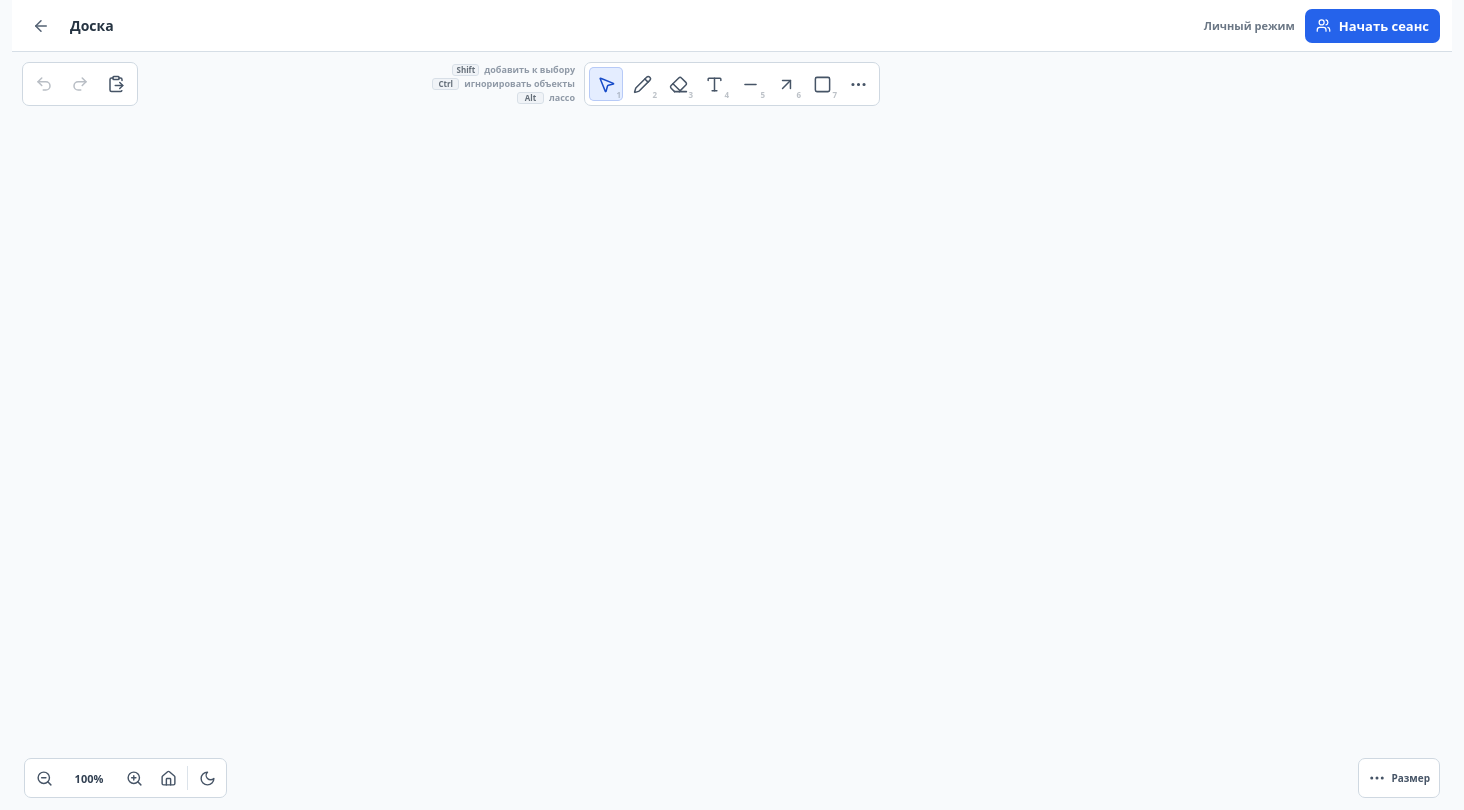
Test: SoloBoardPage session promotion › shows a server response instead of masking it as a connection error
Click the button "Начать сеанс" at (1372, 26), box [1305,8,1440,42]
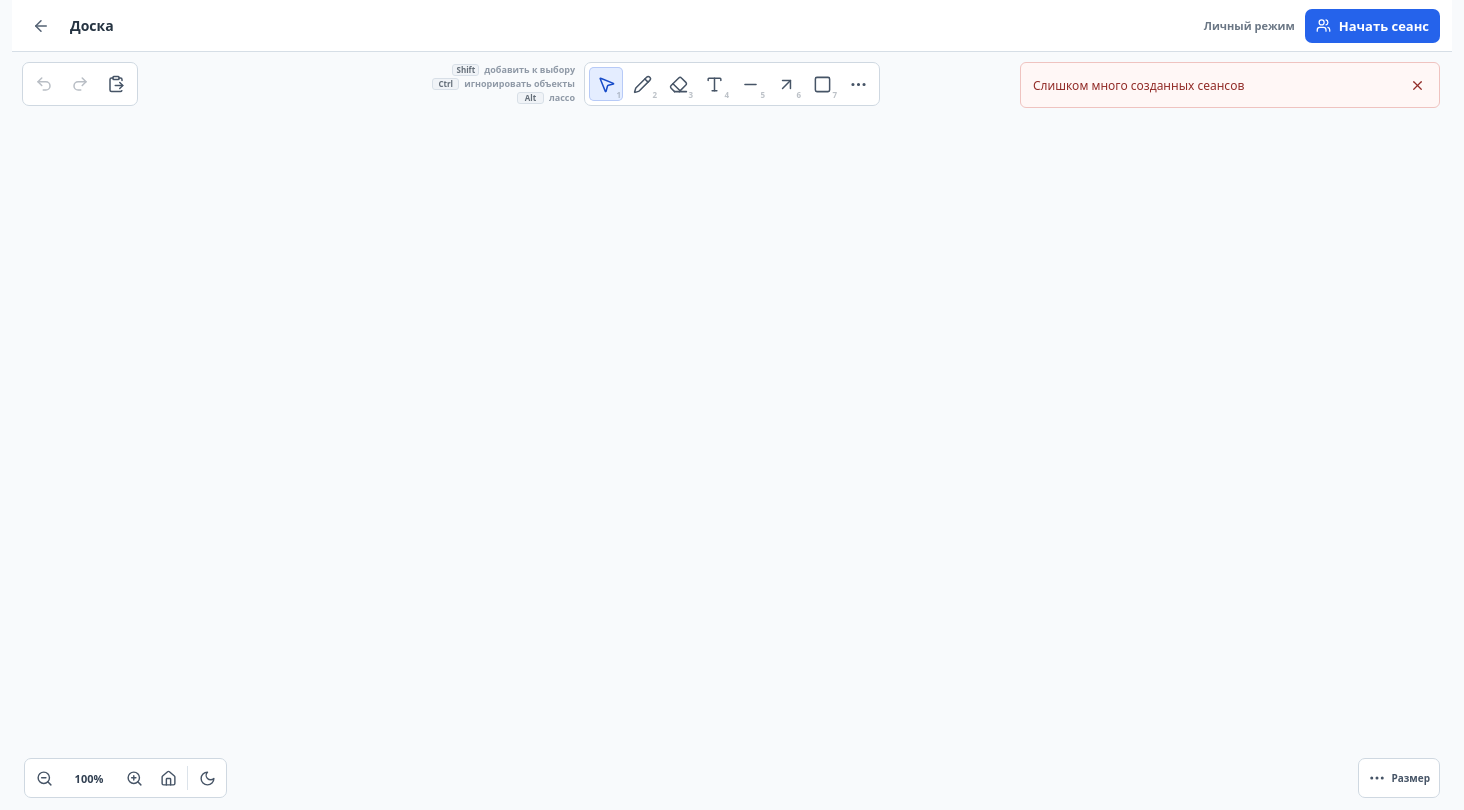
expect the message "Слишком много созданных сеансов" is shown: met, box [1020,62,1440,108]
